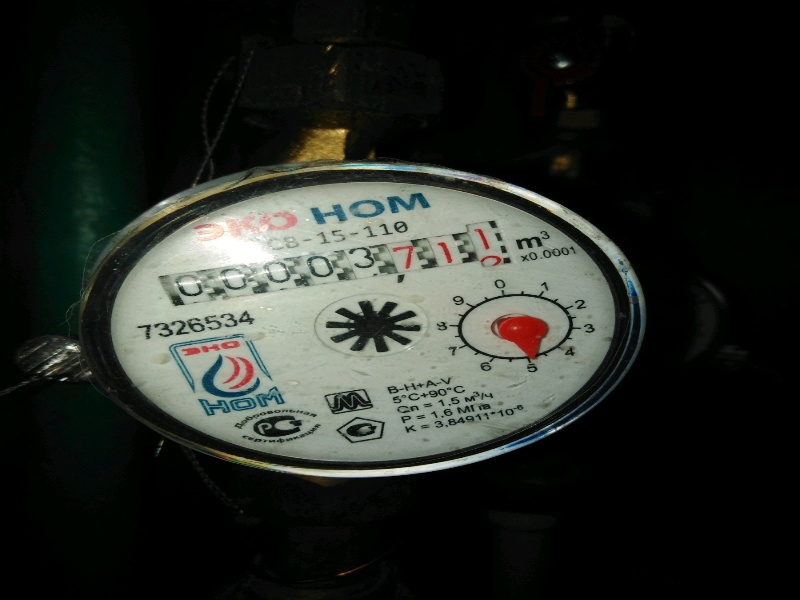dial: (133, 242, 506, 298)
